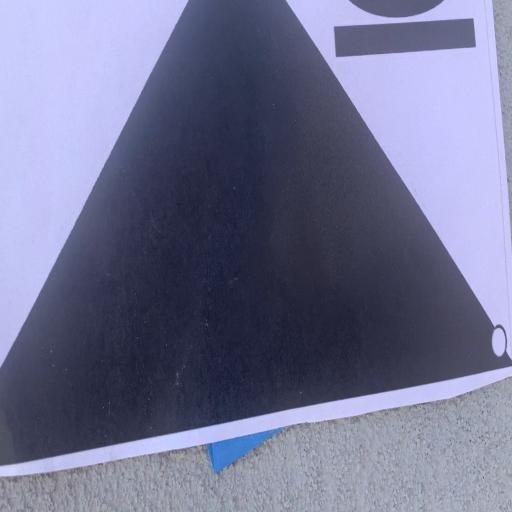target8: (0, 3, 511, 373)
